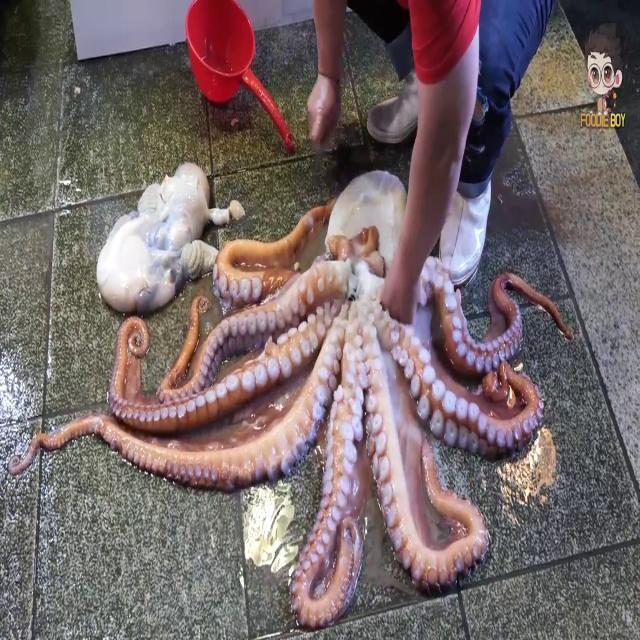octopus: (7, 170, 570, 632)
